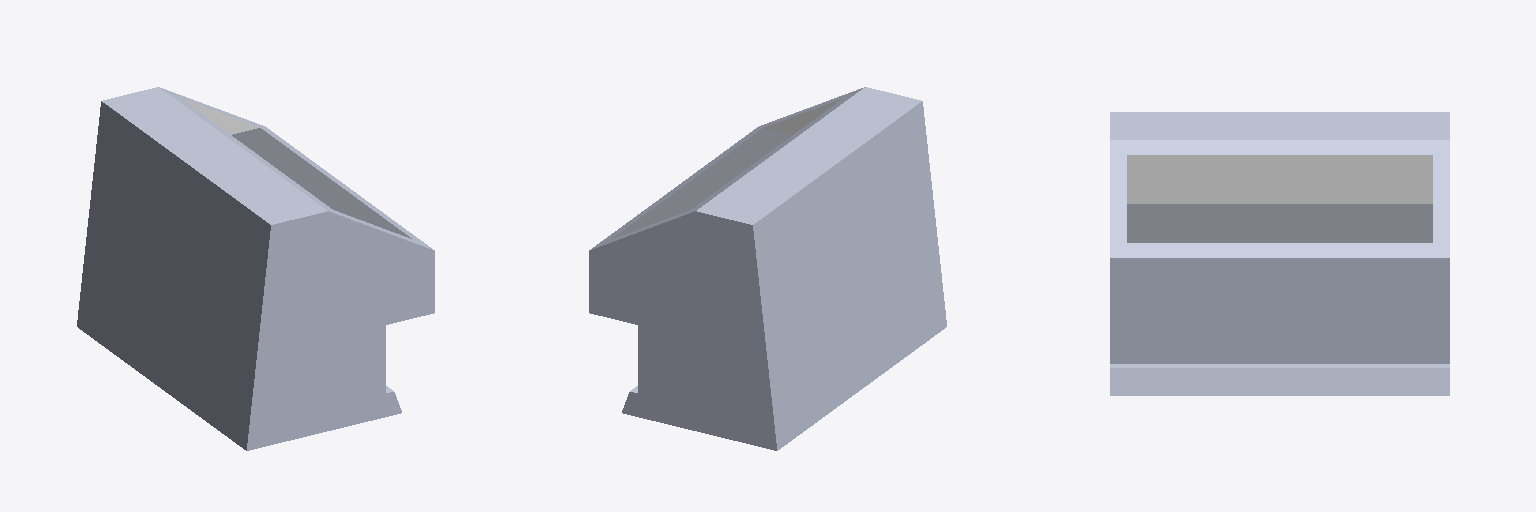
File: spaceInterior_026.obj
3 views of the same model, side by side, from view 1: azimuth 30°, elevation 25°; view 2: azimuth 150°, elevation 25°; view 3: azimuth 270°, elevation 25° (orthographic).
Parts seen in each view (by area): view 1: Mesh1 Group1 Model; view 2: Mesh1 Group1 Model; view 3: Mesh1 Group1 Model.
Part boxes in pixels (bbox=[...]): Mesh1 Group1 Model: bbox=[77, 87, 434, 450]; Mesh1 Group1 Model: bbox=[589, 87, 946, 450]; Mesh1 Group1 Model: bbox=[1110, 112, 1449, 395].
Size of the model in its own units: 0.298 by 0.3321 by 0.4648.